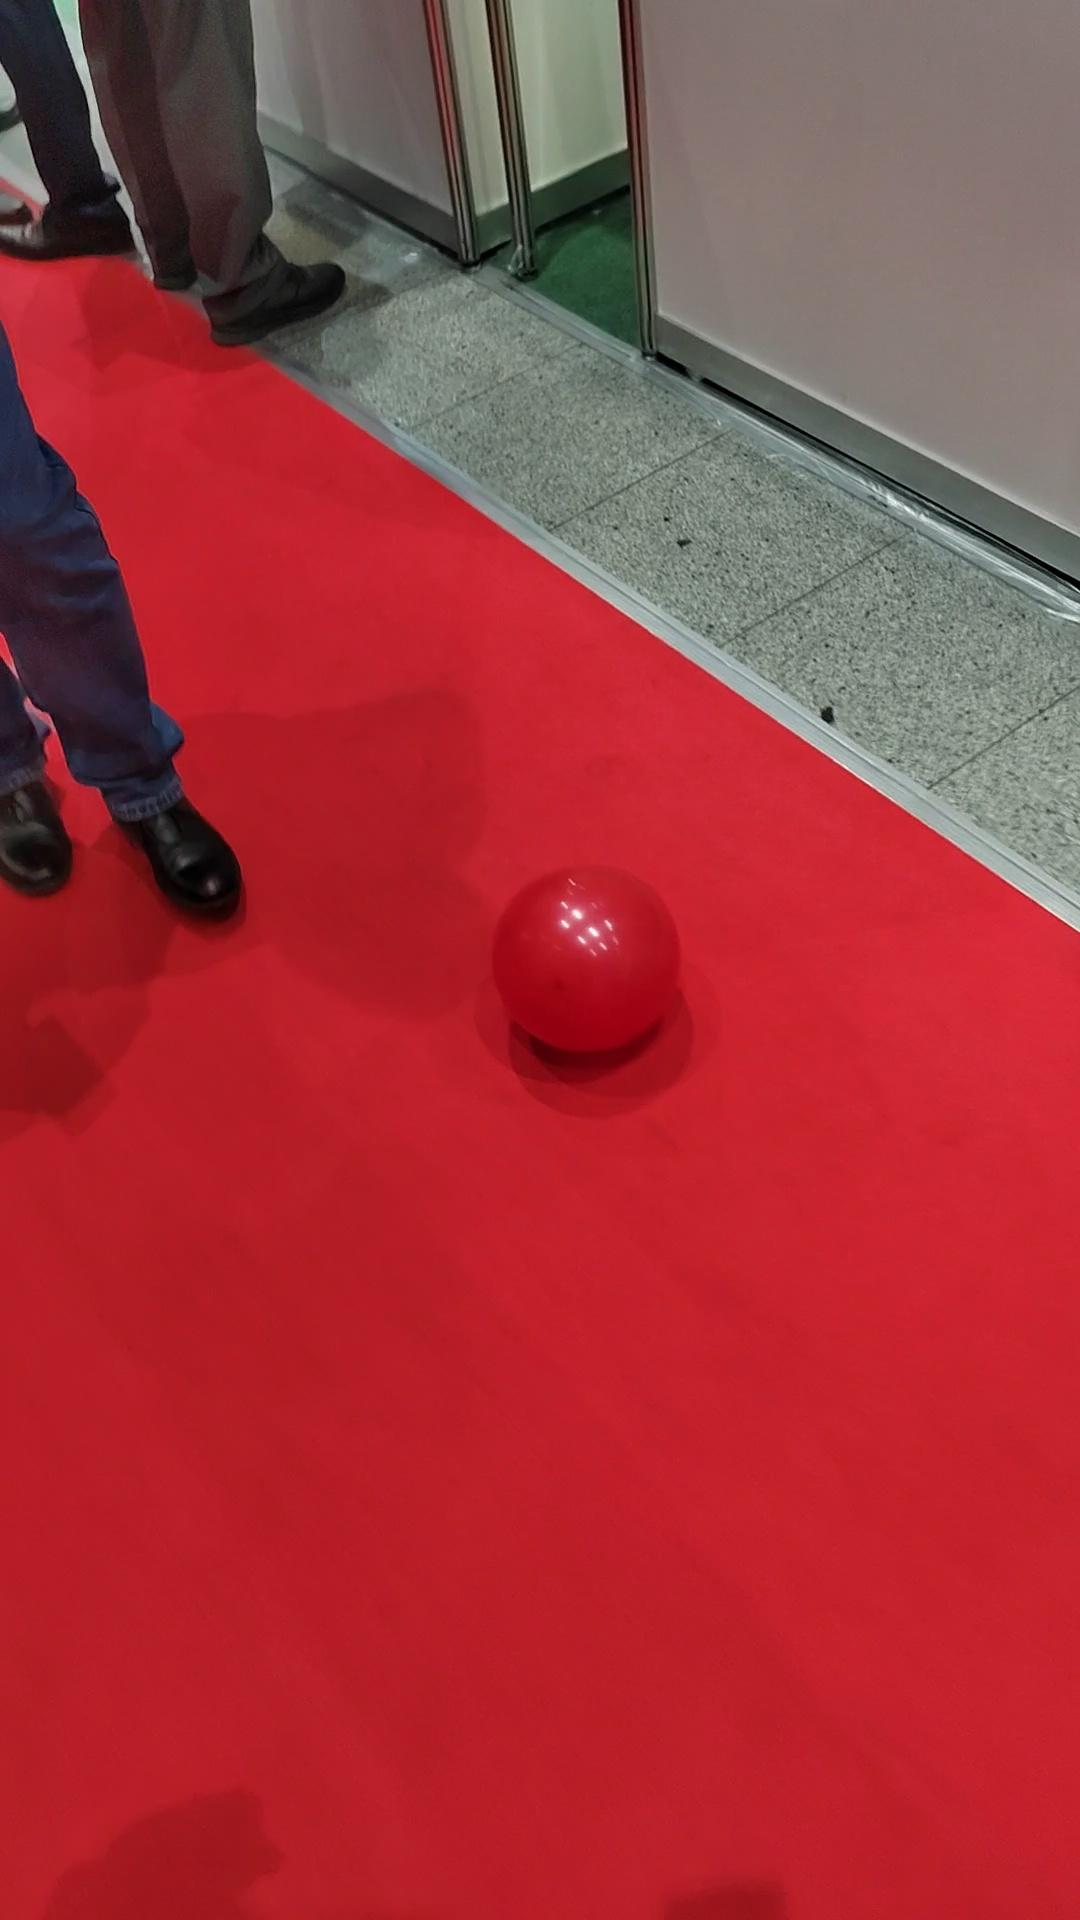red: (489, 868, 675, 1054)
